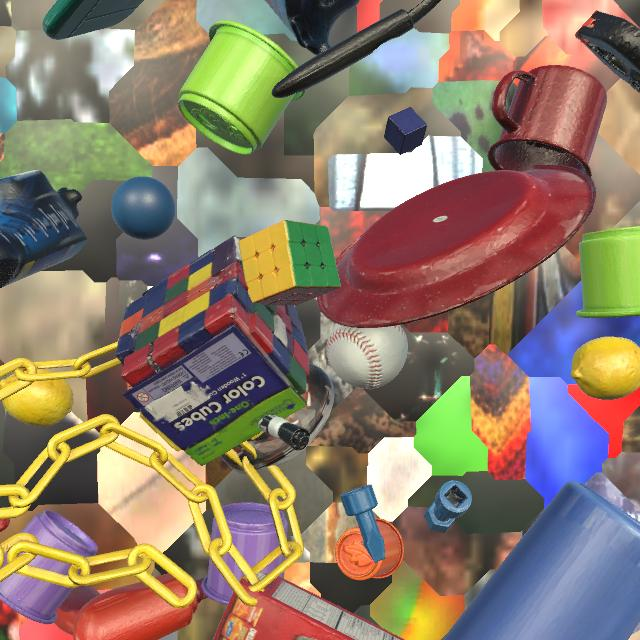ycb_003_cracker_box: (213, 572, 405, 640)
ycb_014_lemon: (570, 337, 640, 400), (0, 369, 73, 427)
